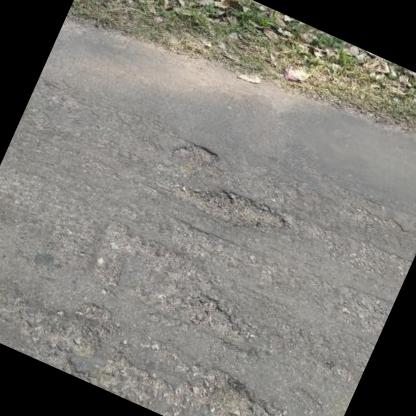pothole: (179, 170, 290, 244), (175, 285, 254, 345), (188, 363, 268, 416), (48, 312, 108, 362), (168, 132, 222, 175)
